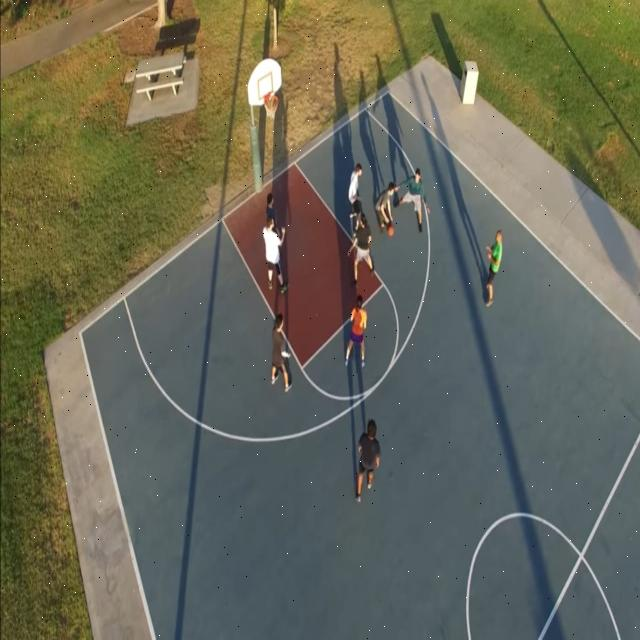humans: (354, 416, 382, 504), (341, 294, 368, 374), (398, 167, 430, 234), (264, 214, 289, 297), (480, 224, 504, 310), (270, 310, 294, 394), (347, 214, 374, 286), (344, 160, 366, 229), (372, 179, 401, 226), (264, 192, 279, 220)
